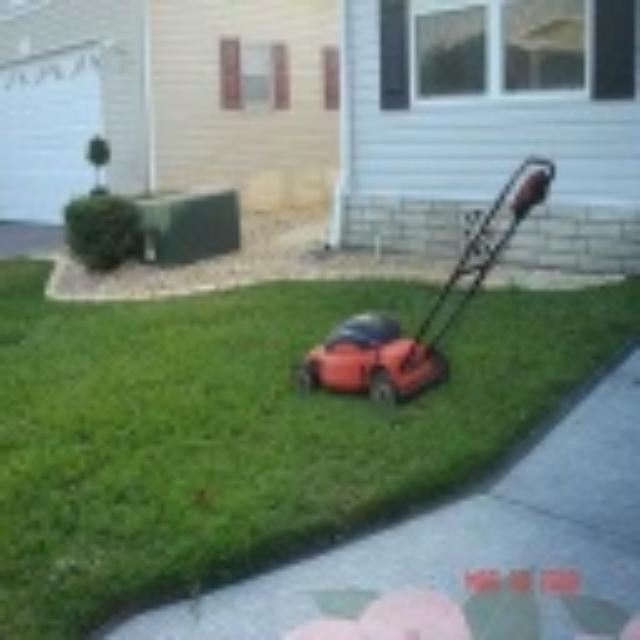Rotary-Mower: (290, 150, 554, 410)
